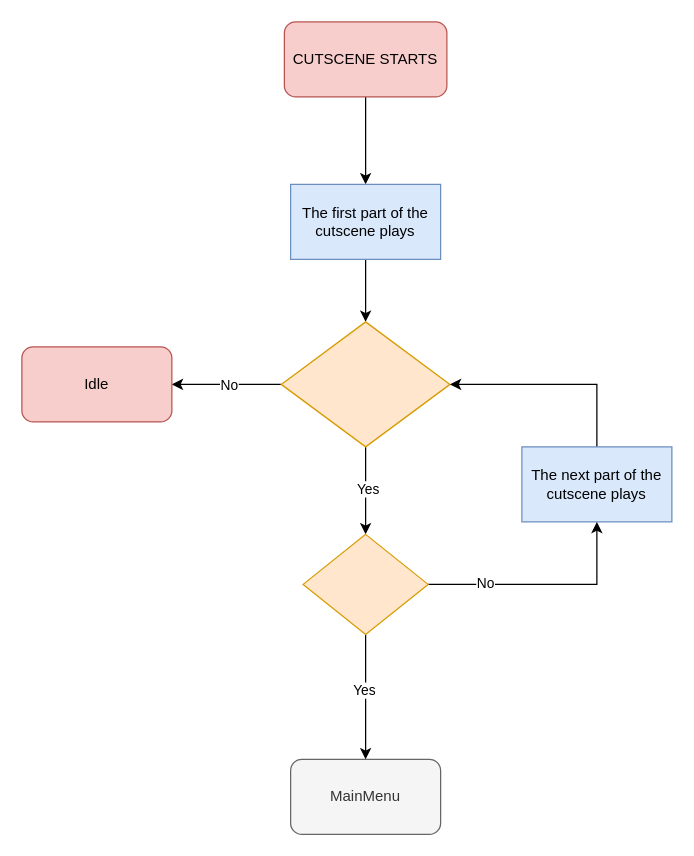
Some shapes in this 694 by 856 pixel diagram are drawn without their labels. The shapes that lost their labels are listed below. From the top down, each one's centre as x and y in pixels, then its label:
At (x=365, y=384): "Does the player click on the Skip Button?".
At (x=365, y=583): "Is it the last part of the cutscene?".
